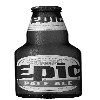beer: (15, 2, 85, 100)
